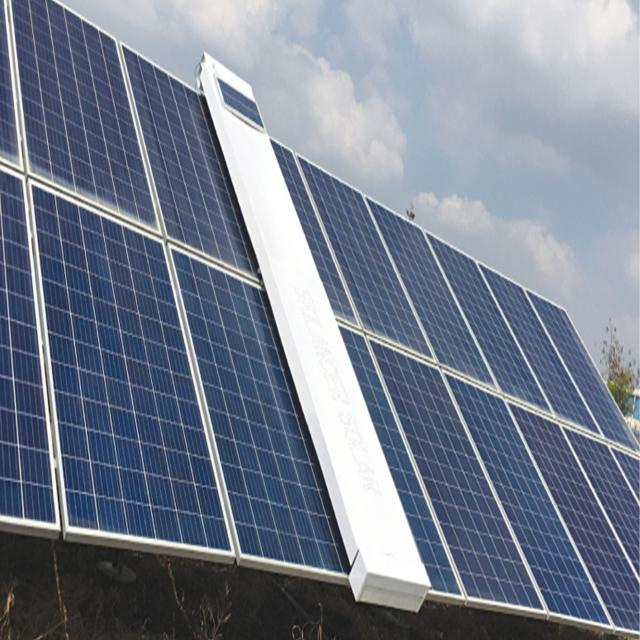clean-solar-panel: (0, 0, 640, 633)
